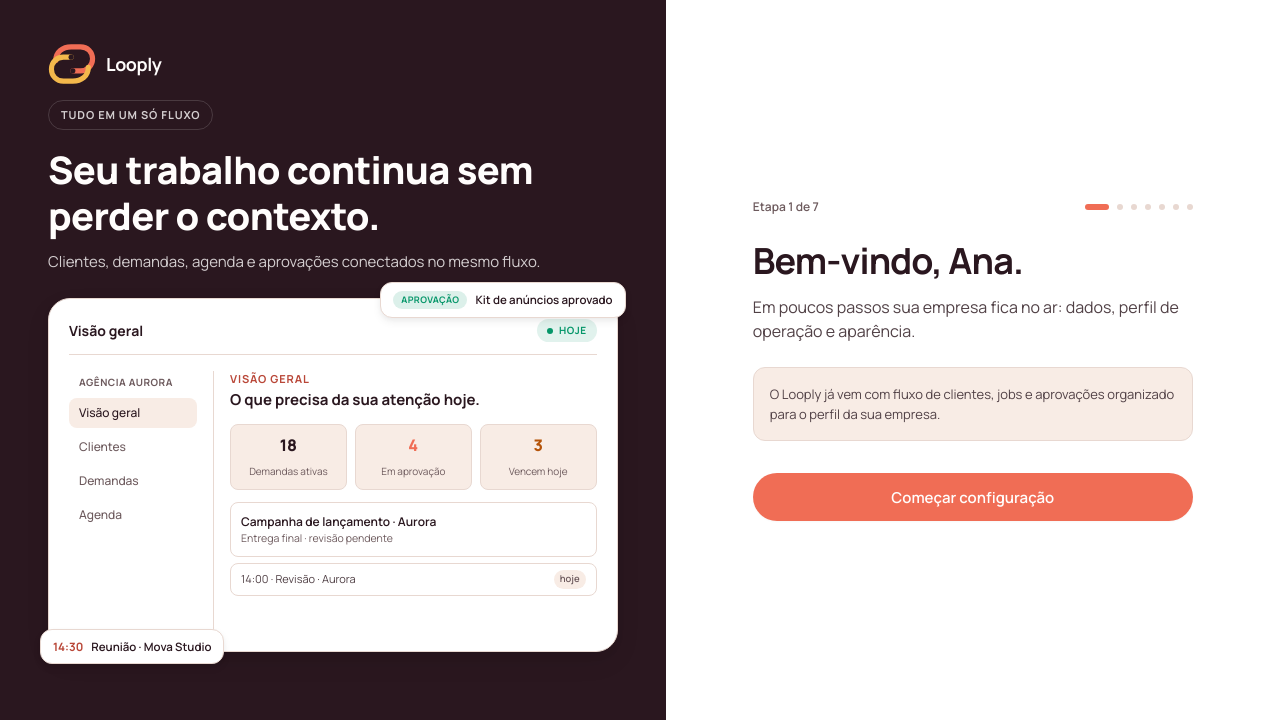
Onboarding › Full 7-step onboarding (when MVP flag disabled) › step 2 prefills from server status and submits the company contract incl. site
This screenshot has width=1280, height=720.
Click the button "Começar configuração" at {"x": 973, "y": 497}, box [753, 473, 1193, 521]
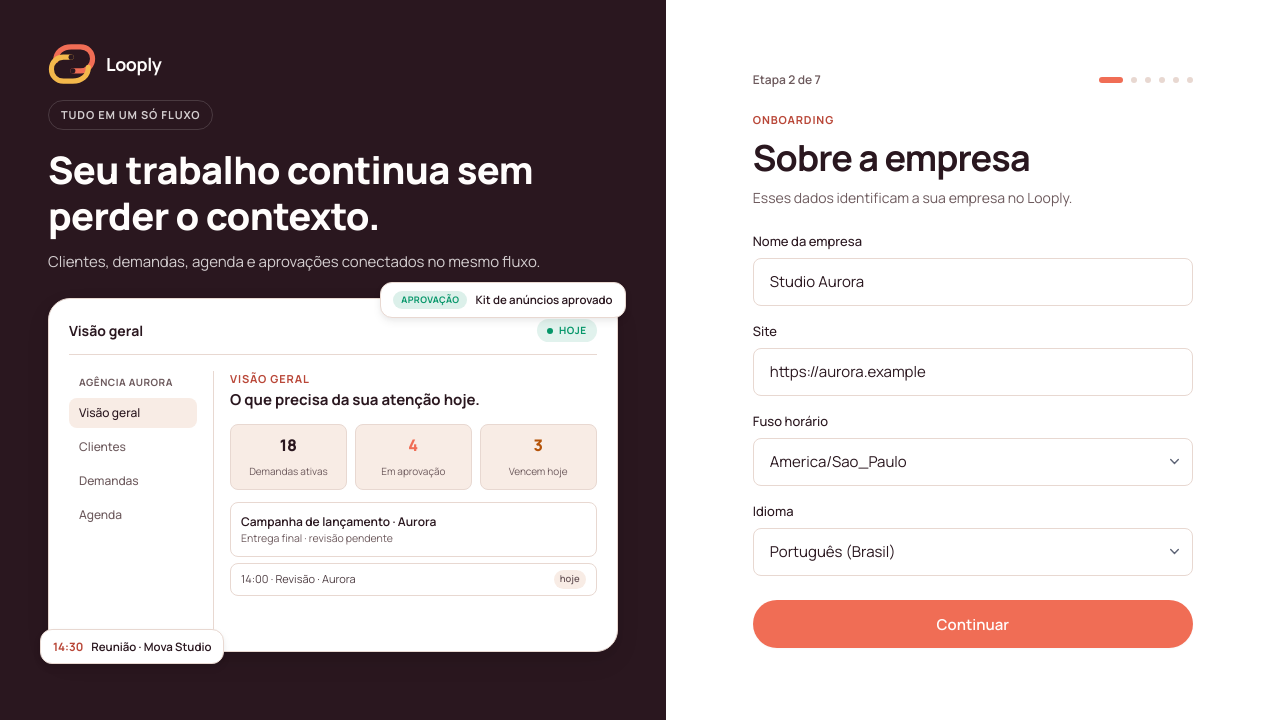
Check: the field labelled "Nome da empresa" holds "Studio Aurora", box [753, 258, 1193, 306]
Check: the field labelled "Site" holds "https://aurora.example", box [753, 348, 1193, 396]
Click the button "Continuar" at {"x": 973, "y": 624}, box [753, 600, 1193, 648]
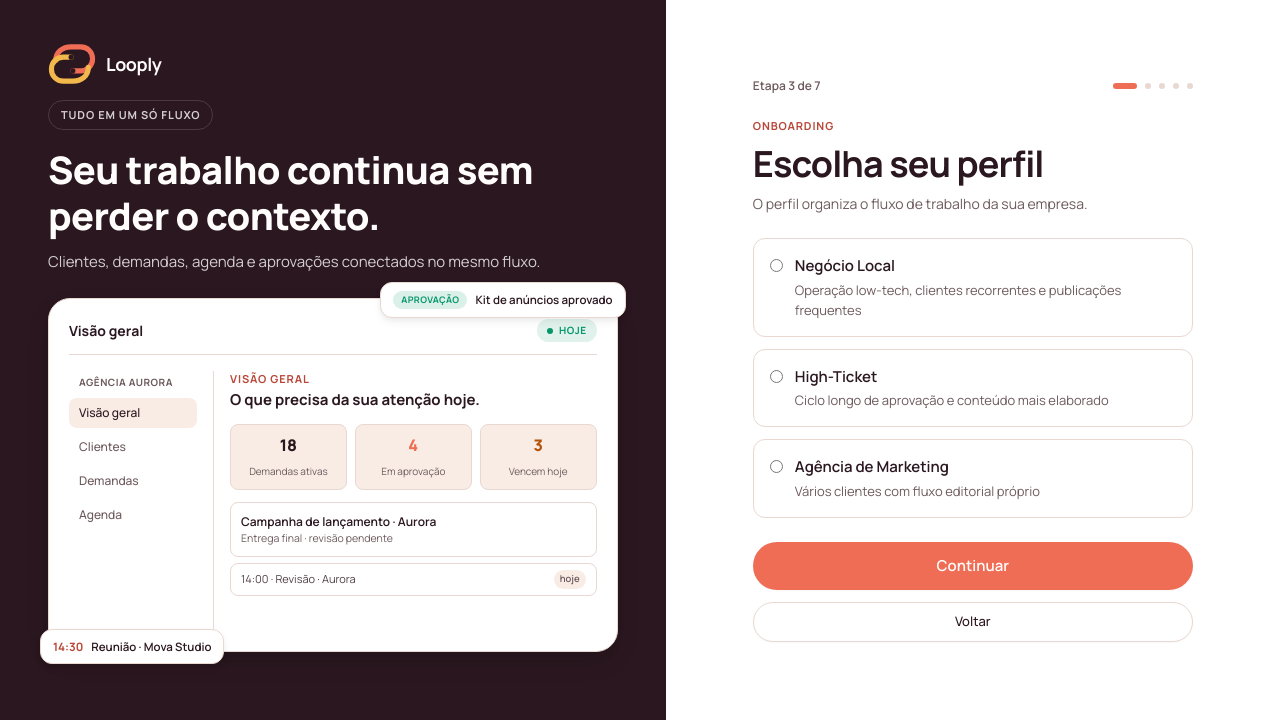
Check: the text "Etapa 3 de 7" is shown, box [753, 78, 821, 94]
